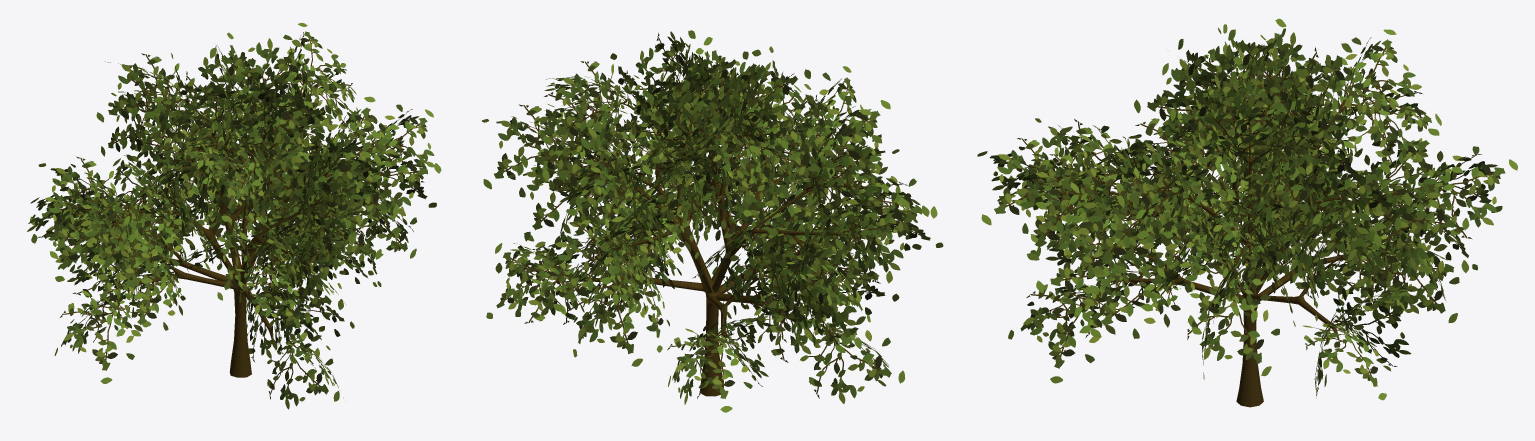
File: PlantBush.fbx
The picture shows the model from 3 angles, left to right: view 1: azimuth 30°, elevation 25°; view 2: azimuth 150°, elevation 25°; view 3: azimuth 270°, elevation 25°; orthographic projection. The views are drawn at different scales.
Visible parts, largest first — view 1: bush_trunk, bushLeaves82 (×2), bushLeaves21 (×2), bushLeaves6 (×2), bushLeaves20 (×2), bushLeaves75 (×2), bushLeaves15 (×2), bushLeaves52, bushLeaves5, bushLeaves8 (×2), bushLeaves7 (×2), bushLeaves24 (×2) (+51 smaller); view 2: bush_trunk, bushLeaves52 (×2), bushLeaves8 (×2), bushLeaves34 (×2), bushLeaves35 (×2), bushLeaves27 (×2), bushLeaves50 (×2), bushLeaves6, bushLeaves47 (×2), bushLeaves56 (×2), bushLeaves31, bushLeaves43 (×2) (+53 smaller); view 3: bush_trunk, bushLeaves51 (×2), bushLeaves49 (×2), bushLeaves28 (×2), bushLeaves43 (×2), bushLeaves29 (×2), bushLeaves21, bushLeaves68 (×2), bushLeaves70, bushLeaves5, bushLeaves48 (×2), bushLeaves31 (+53 smaller).
Boxes of the visible parts, <box> form: bush_trunk: <box>81,84,372,377</box>; bushLeaves82 (×2): <box>145,100,274,221</box>; bushLeaves21 (×2): <box>80,182,381,286</box>; bushLeaves6 (×2): <box>54,294,339,409</box>; bushLeaves20 (×2): <box>103,152,348,243</box>; bushLeaves75 (×2): <box>168,76,281,163</box>; bushLeaves15 (×2): <box>46,197,310,339</box>; bushLeaves52: <box>96,53,186,135</box>; bushLeaves5: <box>60,290,142,383</box>; bushLeaves8 (×2): <box>27,186,351,304</box>; bushLeaves7 (×2): <box>45,180,377,286</box>; bushLeaves24 (×2): <box>123,151,370,235</box>; bush_trunk: <box>550,93,858,396</box>; bushLeaves52 (×2): <box>543,61,738,208</box>; bushLeaves8 (×2): <box>803,66,929,283</box>; bushLeaves34 (×2): <box>486,248,754,412</box>; bushLeaves35 (×2): <box>495,231,768,386</box>; bushLeaves27 (×2): <box>483,104,646,322</box>; bushLeaves50 (×2): <box>537,79,706,258</box>; bushLeaves6: <box>800,316,904,403</box>; bushLeaves47 (×2): <box>649,31,748,132</box>; bushLeaves56 (×2): <box>576,118,692,280</box>; bushLeaves31: <box>565,267,656,366</box>; bushLeaves43 (×2): <box>626,30,698,164</box>; bush_trunk: <box>1083,92,1446,407</box>; bushLeaves51 (×2): <box>1265,29,1421,185</box>; bushLeaves49 (×2): <box>1238,82,1441,225</box>; bushLeaves28 (×2): <box>1211,146,1517,307</box>; bushLeaves43 (×2): <box>1186,67,1339,163</box>; bushLeaves29 (×2): <box>1179,194,1477,334</box>; bushLeaves21: <box>1016,152,1105,260</box>; bushLeaves68 (×2): <box>1118,133,1373,236</box>; bushLeaves70: <box>1083,167,1174,274</box>; bushLeaves5: <box>1023,277,1116,383</box>; bushLeaves48 (×2): <box>1234,18,1330,132</box>; bushLeaves31: <box>1187,276,1279,376</box>.
Size of the model in its own units: 8.09 by 6.39 by 8.09.
